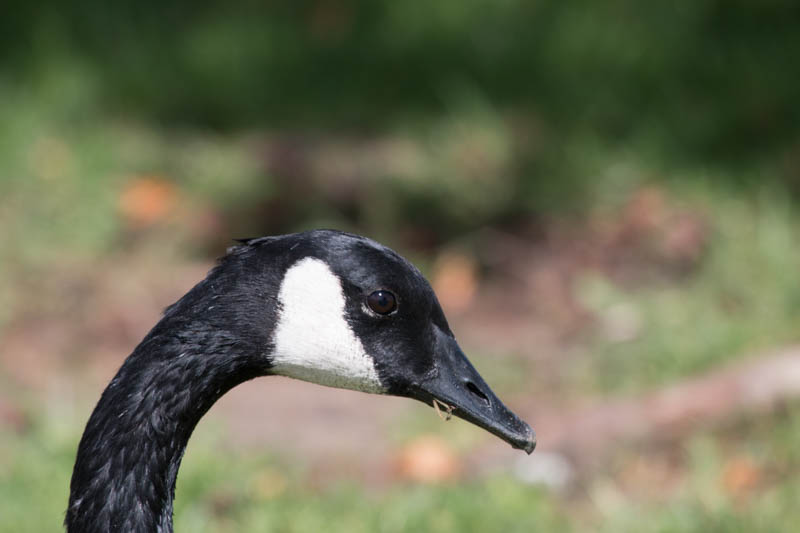goose-head: (236, 228, 537, 455)
